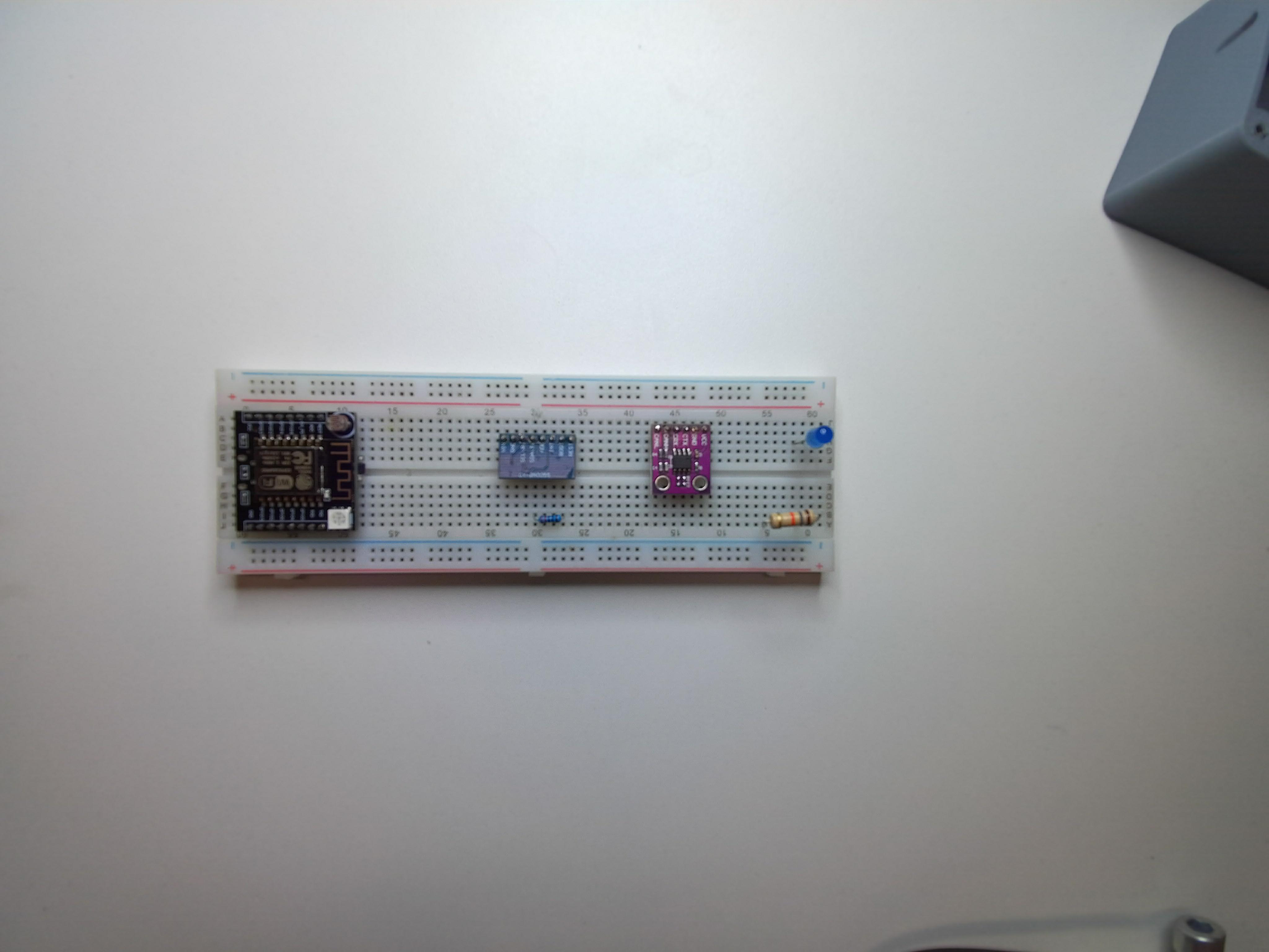base: (209, 376, 839, 589)
blue-board: (498, 432, 578, 482)
blue-led: (804, 422, 834, 454)
esp: (229, 407, 363, 538)
purple-board: (649, 419, 713, 502)
resistor-big: (768, 510, 818, 532)
resistor-small: (537, 513, 563, 527)
